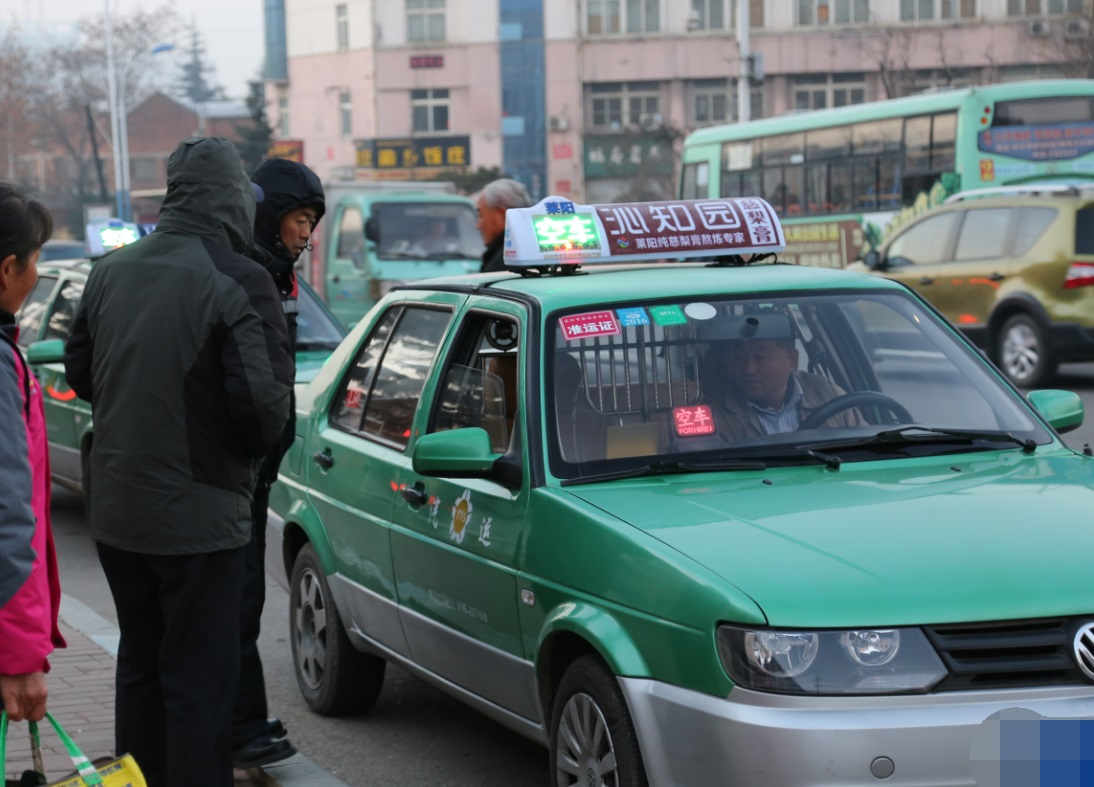taxi: (275, 190, 1094, 787)
